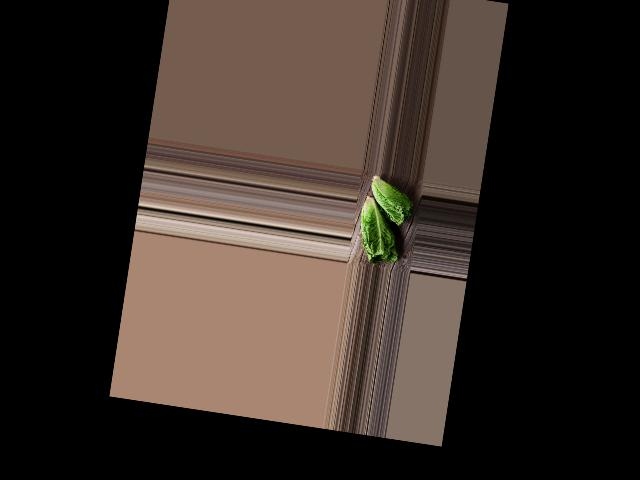lettuce: (363, 171, 421, 229)
